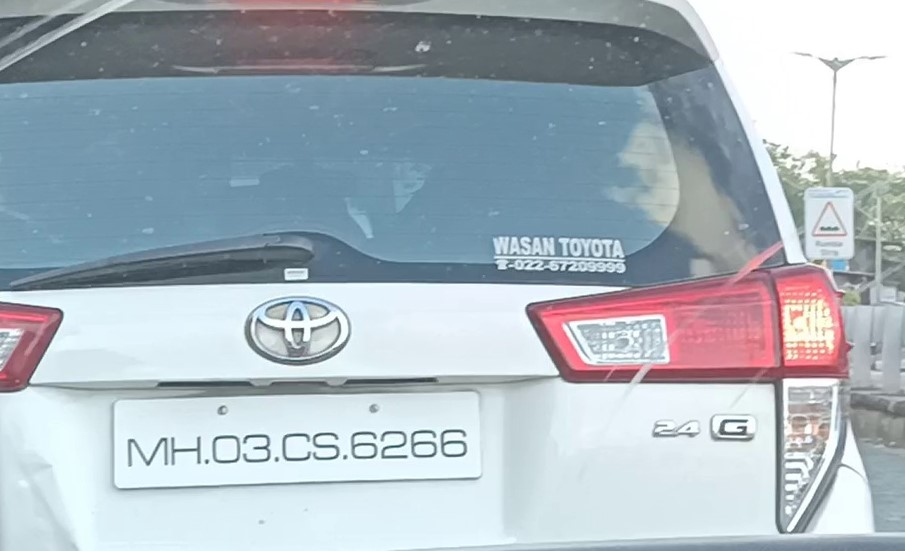MH03CS6266: (111, 389, 483, 491)
